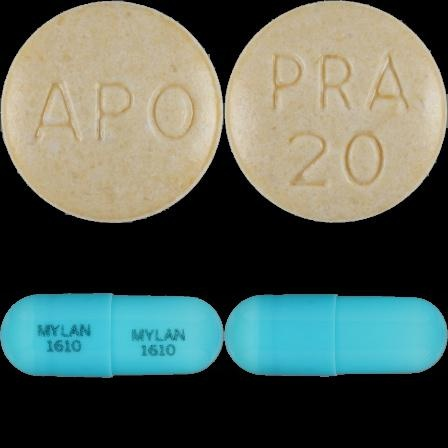52125-644: (0, 0, 224, 224)
